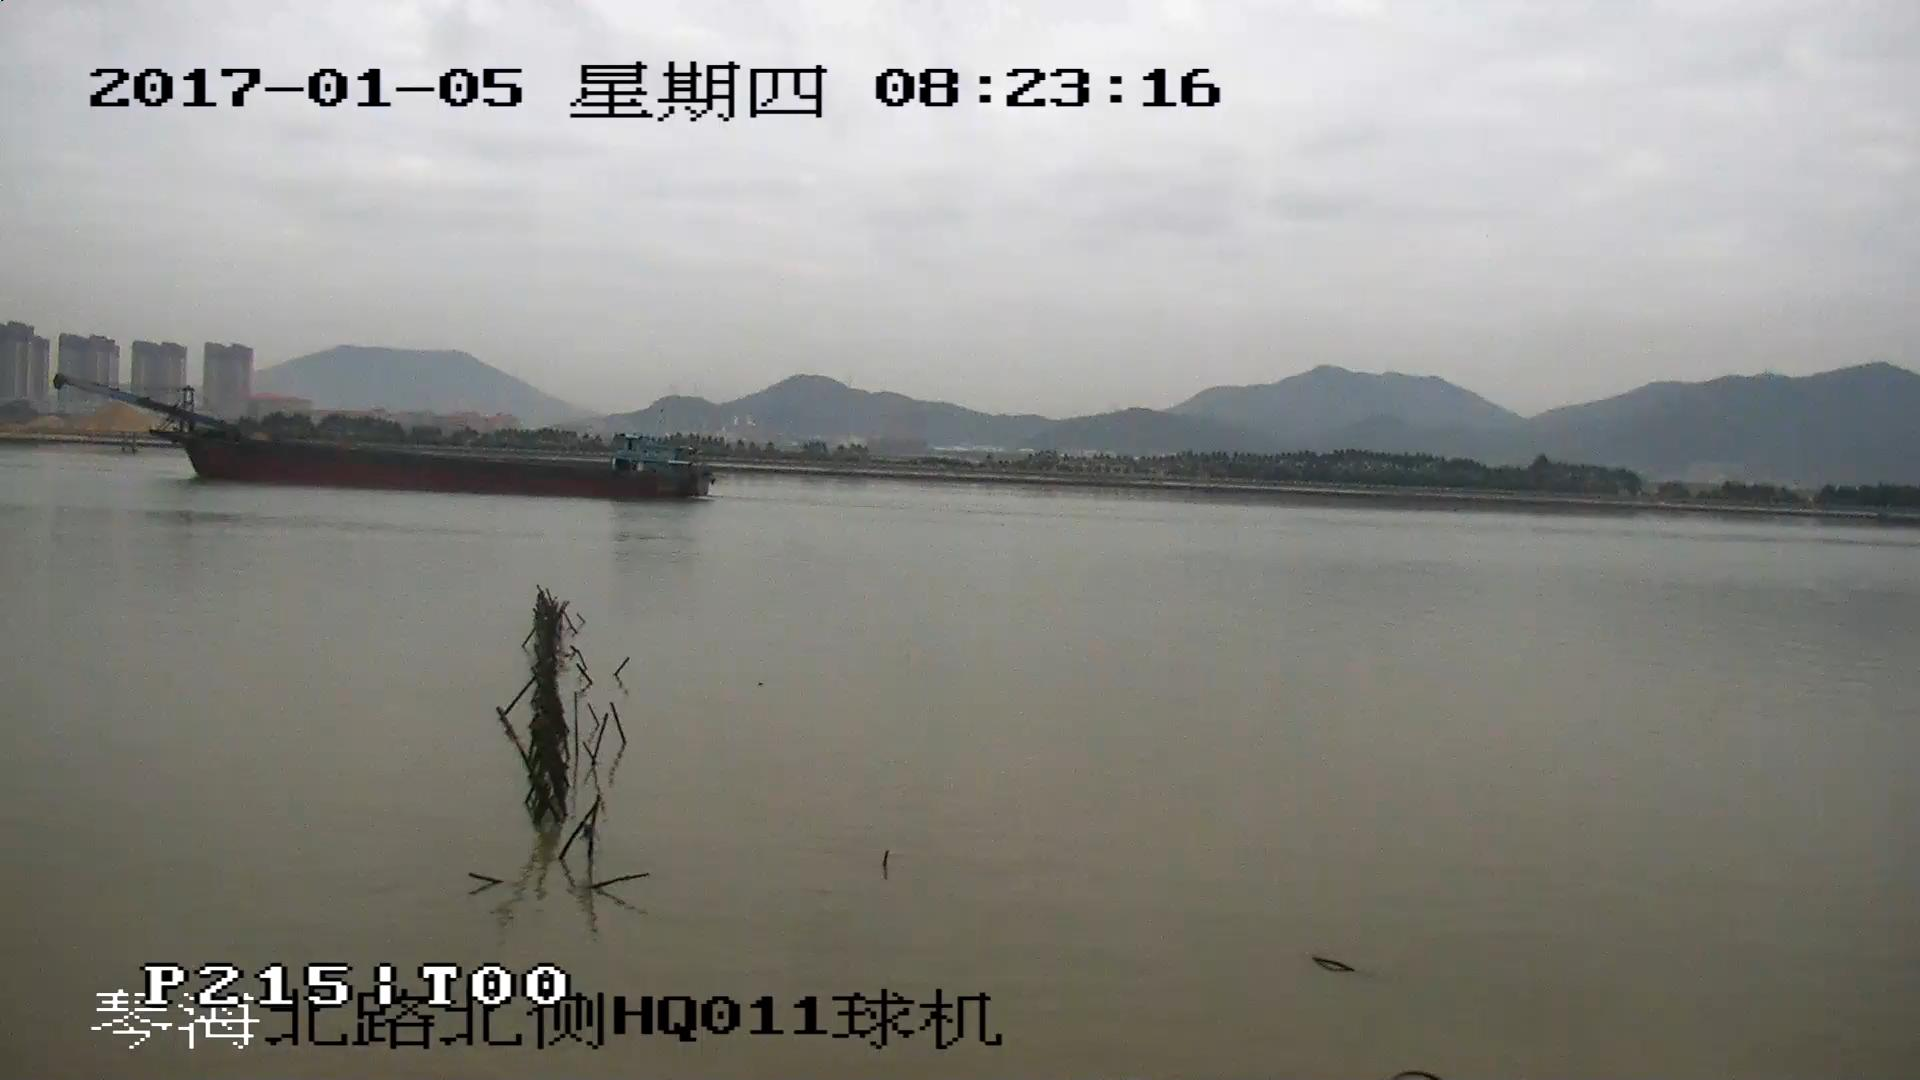bulk cargo carrier: (62, 376, 713, 498)
